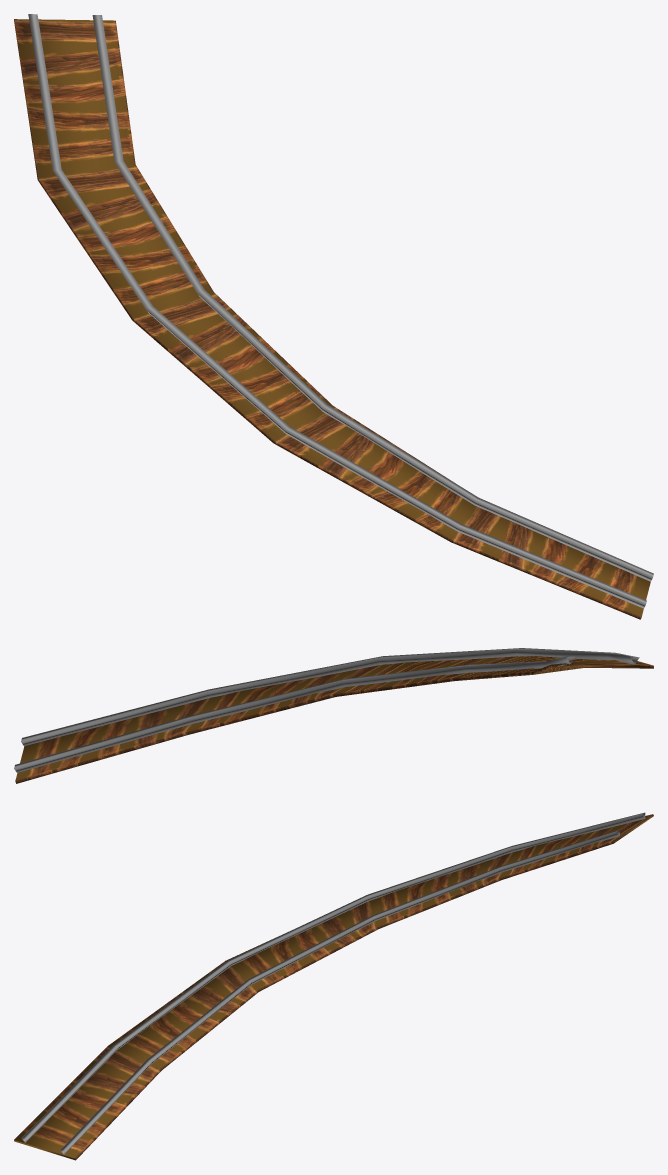
The model's file is SWORDLIGHT20_TRACK4.fbx.
3 views of the same model, one above another, from view 1: azimuth 30°, elevation 25°; view 2: azimuth 210°, elevation 25°; view 3: azimuth 270°, elevation 25° (orthographic). The views are drawn at different scales.
Parts seen in each view (by area): view 1: SWORDLIGHT20_TRACK4; view 2: SWORDLIGHT20_TRACK4; view 3: SWORDLIGHT20_TRACK4.
Part boxes in pixels (x1,y1,x2,y2): SWORDLIGHT20_TRACK4: (14, 14, 653, 619); SWORDLIGHT20_TRACK4: (14, 648, 653, 783); SWORDLIGHT20_TRACK4: (14, 812, 653, 1160).
Size of the model in its own units: 60173 by 61035 by 136779.
2 materials, 2 textured.
